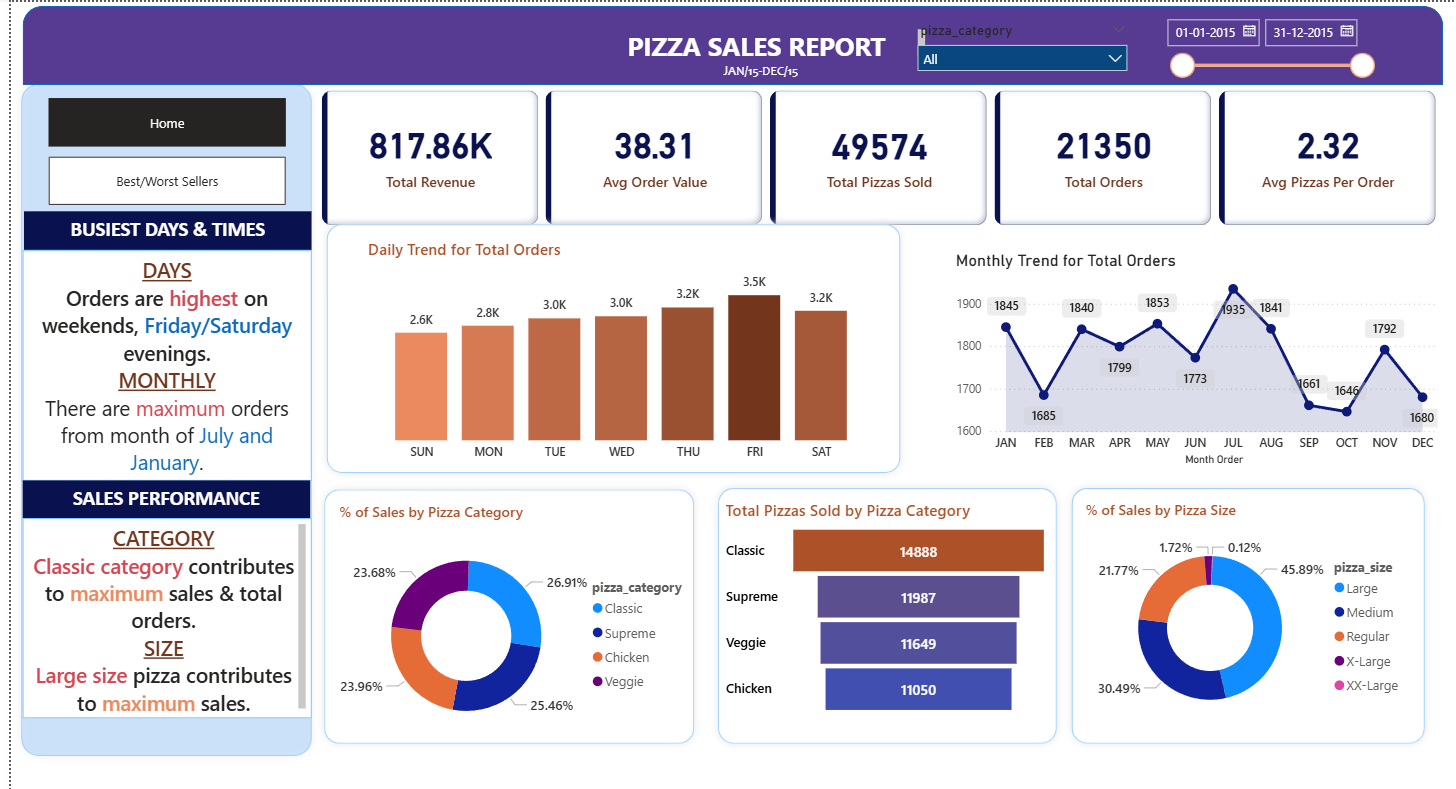

The dashboard page shown, as its layout file describes it:
{"tool":"powerbi","page":{"name":"Home","canvas":[1500,820],"ordinal":0},"visuals":[{"type":"shape","title":"Monthly Trend for Total Orders","box":[2.5,77.5,317.5,713.8],"z":0},{"type":"textbox","box":[13.2,217.7,298.5,39.7],"z":1000},{"type":"cardVisual","fields":{"Data":["pizza_sales (1).Total Revenue","pizza_sales (1).Avg Order Value","pizza_sales (1).Total Pizzas Sold","pizza_sales (1).Total Orders","pizza_sales (1).Avg Pizzas Per Order"]},"box":[317.7,86.8,1169.2,150],"z":2000},{"type":"shape","box":[11.9,4.5,1474.6,82.1],"z":3000},{"type":"textbox","box":[600,22.4,353.7,41.8],"z":4000},{"type":"textbox","box":[717.9,55.2,120.9,44.8],"z":5000},{"type":"shape","title":"Monthly Trend for Total Orders","box":[320,222.9,611.4,274.3],"z":6000},{"type":"columnChart","title":"Daily Trend for Total Orders","fields":{"Category":["pizza_sales (1).Order Day"],"Y":["pizza_sales (1).Total Orders"]},"box":[365.7,245.7,535.7,240],"z":7000},{"type":"areaChart","title":"Monthly Trend for Total Orders","fields":{"Category":["pizza_sales (1).Month Order"],"Y":["pizza_sales (1).Total Orders"]},"box":[975.7,258.6,510,227.1],"z":8000},{"type":"shape","title":"Monthly Trend for Total Orders","box":[317.5,497.5,400,280],"z":9000},{"type":"shape","title":"Monthly Trend for Total Orders","box":[1093.8,496.2,382.5,281.2],"z":10000},{"type":"shape","title":"Monthly Trend for Total Orders","box":[726.2,496.2,367.5,281.2],"z":11000},{"type":"donutChart","title":"% of Sales by Pizza Category","fields":{"Category":["pizza_sales (1).pizza_category"],"Y":["pizza_sales (1).Total Revenue"]},"box":[336.2,518.8,381.2,258.8],"z":12000},{"type":"donutChart","title":"% of Sales by Pizza Size","fields":{"Y":["pizza_sales (1).Total Revenue"],"Category":["pizza_sales (1).pizza_size"]},"box":[1111.2,516.2,347.5,245],"z":13000},{"type":"funnel","title":"Total Pizzas Sold by Pizza Category","fields":{"Category":["pizza_sales (1).pizza_category"],"Y":["pizza_sales (1).Total Pizzas Sold"]},"box":[737.5,516.2,345,227.5],"z":14000},{"type":"textbox","box":[12.1,257.6,300,239.4],"z":15000},{"type":"textbox","box":[12.1,497,298.5,39.4],"z":16000},{"type":"textbox","box":[12.8,535.9,300,207.7],"z":17000},{"type":"slicer","fields":{"Values":["pizza_sales (1).pizza_category"]},"box":[931.2,16.2,237.5,76.2],"z":18000},{"type":"slicer","fields":{"Values":["pizza_sales (1).order_date"]},"box":[1187.9,7.6,236.4,75.8],"z":19000},{"type":"pageNavigator","box":[38.8,100,246.2,50],"z":20000},{"type":"pageNavigator","box":[38.8,161.2,246.2,50],"z":21000}]}

Visuals, with their boxes in screenshot pixels (x1, y1, x2, y2), scaled from the page's 1500x820 canvas onto the 1456x789 screenshot:
"Monthly Trend for Total Orders" shape: left=2, top=75, right=311, bottom=761
textbox: left=13, top=209, right=303, bottom=248
cardVisual - pizza_sales (1).Total Revenue x pizza_sales (1).Avg Order Value: left=308, top=84, right=1443, bottom=228
shape: left=12, top=4, right=1443, bottom=83
textbox: left=582, top=22, right=926, bottom=62
textbox: left=697, top=53, right=814, bottom=96
"Monthly Trend for Total Orders" shape: left=311, top=214, right=904, bottom=478
"Daily Trend for Total Orders" columnChart: left=355, top=236, right=875, bottom=467
"Monthly Trend for Total Orders" areaChart: left=947, top=249, right=1442, bottom=467
"Monthly Trend for Total Orders" shape: left=308, top=479, right=696, bottom=748
"Monthly Trend for Total Orders" shape: left=1062, top=477, right=1433, bottom=748
"Monthly Trend for Total Orders" shape: left=705, top=477, right=1062, bottom=748
"% of Sales by Pizza Category" donutChart: left=326, top=499, right=696, bottom=748
"% of Sales by Pizza Size" donutChart: left=1079, top=497, right=1416, bottom=732
"Total Pizzas Sold by Pizza Category" funnel: left=716, top=497, right=1051, bottom=716
textbox: left=12, top=248, right=303, bottom=478
textbox: left=12, top=478, right=301, bottom=516
textbox: left=12, top=516, right=304, bottom=715
slicer - pizza_sales (1).pizza_category: left=904, top=16, right=1134, bottom=89
slicer - pizza_sales (1).order_date: left=1153, top=7, right=1383, bottom=80
pageNavigator: left=38, top=96, right=277, bottom=144
pageNavigator: left=38, top=155, right=277, bottom=203
